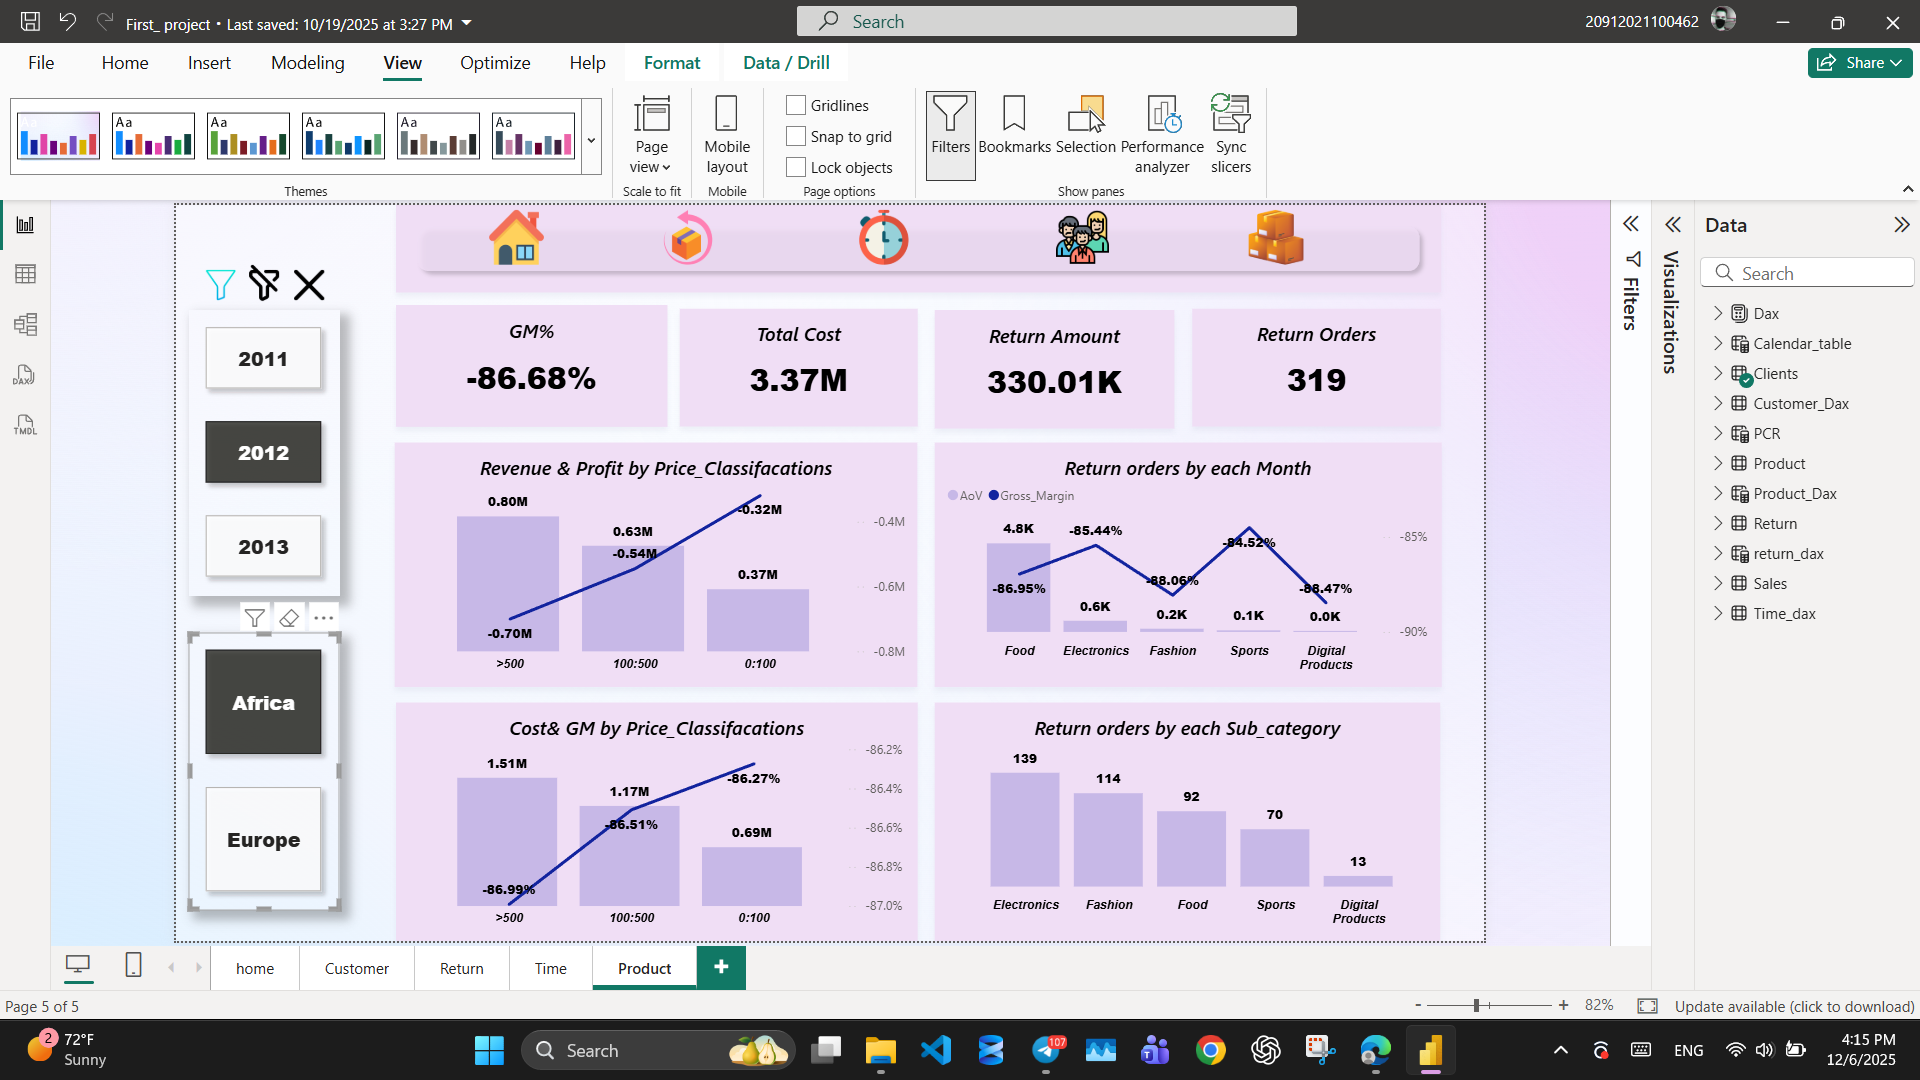

The page's visual inventory and layout, read from the dashboard file:
{"tool":"powerbi","page":{"name":"Product","canvas":[1280,720],"ordinal":4},"visuals":[{"type":"shape","box":[215.2,0,1022.3,85.6],"z":2000},{"type":"image","title":"Clear Filter","box":[58.7,53.8,55,48.9],"z":2500},{"type":"image","title":"Cancel","box":[100.3,58.7,59.9,39.1],"z":3000},{"type":"image","title":"Filter","box":[12.2,58.7,63.6,39.1],"z":5000},{"type":"image","box":[275.6,0,116.7,63.3],"z":6000},{"type":"image","box":[814.4,0,145.5,63.6],"z":7000},{"type":"image","box":[624.4,0,135.3,63.3],"z":8000},{"type":"image","box":[439,0,124.7,63.6],"z":9000},{"type":"image","box":[1015.4,0,122.9,63.3],"z":10000},{"type":"card","title":"GM%","fields":{"Values":["Dax.Gross_Margin"]},"box":[215.8,98.1,265.5,119],"z":11000},{"type":"card","title":"Total Cost","fields":{"Values":["Dax.total_cost"]},"box":[493,102,232.8,115.1],"z":12000},{"type":"card","title":"Return Amount","fields":{"Values":["return_dax.return_amout"]},"box":[742.8,103.3,234.1,116.4],"z":13000},{"type":"card","title":"Return Orders","fields":{"Values":["return_dax.return_orders"]},"box":[994.2,101.5,243.3,114.9],"z":14000},{"type":"clusteredColumnChart","title":"Return orders by each Sub_category","fields":{"Category":["Product.CategoryName"],"Y":["return_dax.return_orders"]},"box":[742.8,486.5,494.3,234.1],"z":15000},{"type":"lineClusteredColumnComboChart","title":"Return orders by each Month","fields":{"Category":["Product.CategoryName"],"Y":["Customer_Dax.AoV"],"Y2":["Dax.Gross_Margin"]},"box":[742.8,232.8,495.6,239.3],"z":16000},{"type":"lineClusteredColumnComboChart","title":"Revenue & Profit by Price_Classifacations","fields":{"Category":["Sales.Price_Classifacations"],"Y":["Dax.total _revenue"],"Y2":["Dax.total_profit"]},"box":[214.5,232.8,511.3,239.3],"z":17000},{"type":"lineClusteredColumnComboChart","title":"Cost& GM by Price_Classifacations","fields":{"Category":["Sales.Price_Classifacations"],"Y":["Dax.total_cost"],"Y2":["Dax.Gross_Margin"]},"box":[215.8,486.5,510,234.1],"z":18000},{"type":"advancedSlicerVisual","fields":{"Values":["Clients.Continent"]},"box":[12.2,418.2,148,271.5],"z":22500},{"type":"advancedSlicerVisual","fields":{"Values":["Calendar_table.year"]},"box":[12.2,102.7,148,280],"z":23000}]}

Visuals, with their boxes on the page's 1280x720 design canvas (x1, y1, x2, y2). These are canvas units, not pixel positions in the 1920x1080 screenshot, which may show the page scaled, cropped or inside an application window:
shape: select_region(215, 0, 1238, 86)
"Clear Filter" image: select_region(59, 54, 114, 103)
"Cancel" image: select_region(100, 59, 160, 98)
"Filter" image: select_region(12, 59, 76, 98)
image: select_region(276, 0, 392, 63)
image: select_region(814, 0, 960, 64)
image: select_region(624, 0, 760, 63)
image: select_region(439, 0, 564, 64)
image: select_region(1015, 0, 1138, 63)
"GM%" card: select_region(216, 98, 481, 217)
"Total Cost" card: select_region(493, 102, 726, 217)
"Return Amount" card: select_region(743, 103, 977, 220)
"Return Orders" card: select_region(994, 102, 1238, 216)
"Return orders by each Sub_category" clusteredColumnChart: select_region(743, 486, 1237, 721)
"Return orders by each Month" lineClusteredColumnComboChart: select_region(743, 233, 1238, 472)
"Revenue & Profit by Price_Classifacations" lineClusteredColumnComboChart: select_region(214, 233, 726, 472)
"Cost& GM by Price_Classifacations" lineClusteredColumnComboChart: select_region(216, 486, 726, 721)
advancedSlicerVisual - Clients.Continent: select_region(12, 418, 160, 690)
advancedSlicerVisual - Calendar_table.year: select_region(12, 103, 160, 383)
